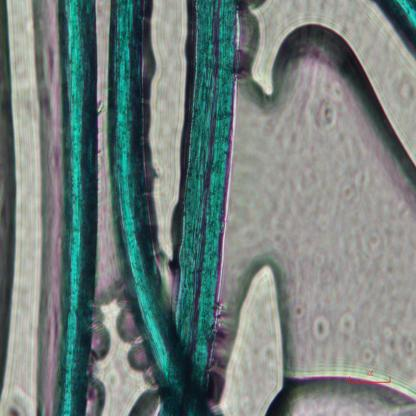Air bubble: (245, 1, 388, 157), (223, 257, 287, 415), (267, 367, 416, 413), (92, 317, 112, 361), (115, 310, 140, 345), (126, 388, 159, 414), (86, 376, 106, 414), (126, 342, 148, 374)
Background material: (0, 1, 19, 403), (301, 305, 333, 342), (332, 307, 359, 337), (318, 102, 334, 130)
Microfibre: (106, 2, 208, 414), (158, 0, 240, 414), (52, 0, 99, 416), (372, 0, 416, 57)
